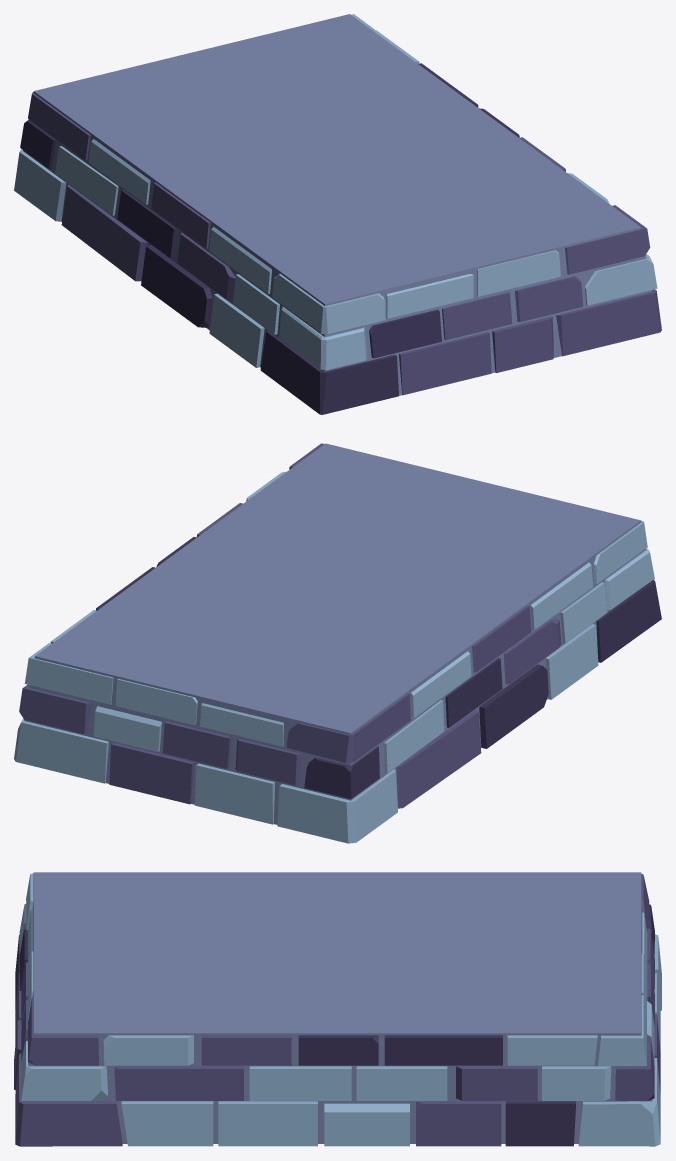
Rendered from BuildingPlatform_02.fbx.
3 views of the same model, one above another, from view 1: azimuth 30°, elevation 25°; view 2: azimuth 150°, elevation 25°; view 3: azimuth 270°, elevation 25° (orthographic). The views are drawn at different scales.
Visible parts, largest first — view 1: BuildingPlatform_02; view 2: BuildingPlatform_02; view 3: BuildingPlatform_02.
Part boxes in pixels (x1,y1,x2,y2): BuildingPlatform_02: (14,14,661,414); BuildingPlatform_02: (14,443,661,843); BuildingPlatform_02: (14,872,661,1146).
Bounding box in the file's own units: 720 × 202 × 1123.
